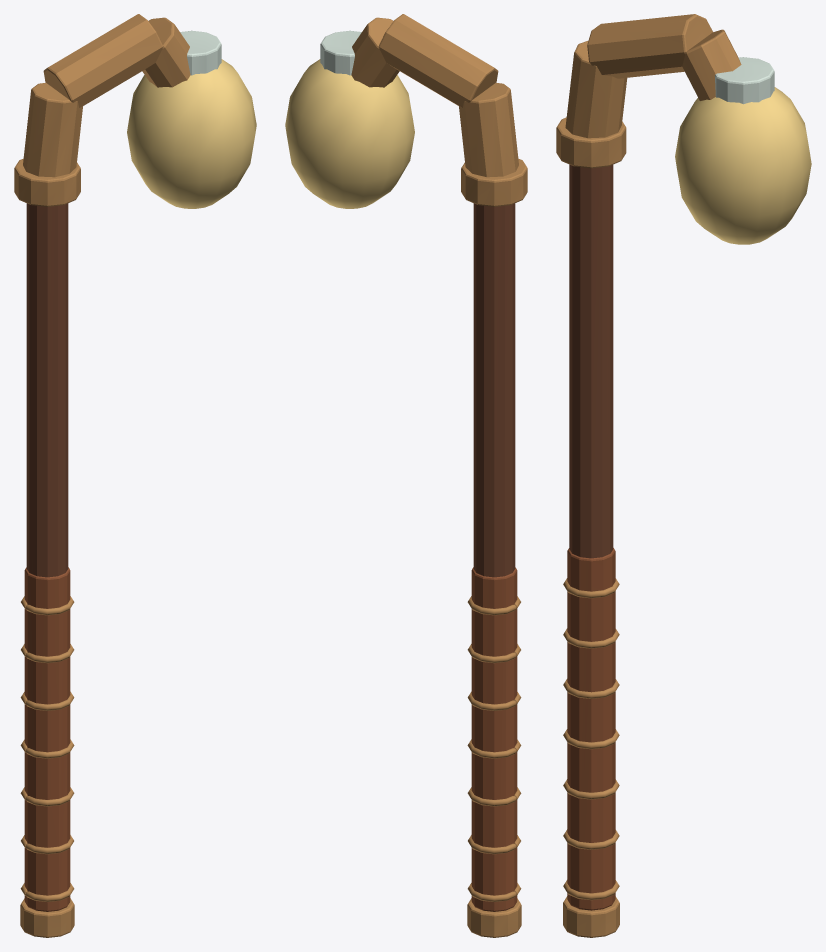
The model's file is item_008.glb.
3 renders of one model, left to right at view 1: azimuth 30°, elevation 25°; view 2: azimuth 150°, elevation 25°; view 3: azimuth 330°, elevation 25°, orthographic. The views are drawn at different scales.
Parts seen in each view (by area): view 1: Item_008_lightbulb_crook; view 2: Item_008_lightbulb_crook; view 3: Item_008_lightbulb_crook.
Part boxes in pixels (box(x1,y1,x2,y2)): Item_008_lightbulb_crook: box(14, 14, 256, 937); Item_008_lightbulb_crook: box(285, 14, 527, 937); Item_008_lightbulb_crook: box(556, 14, 811, 937).
Size of the model in its own units: 0.446 by 1.64 by 0.22.
